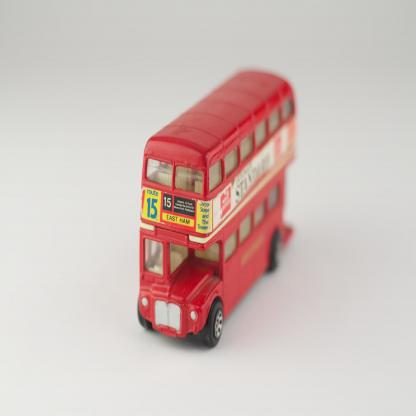Bus: (138, 69, 296, 348)
